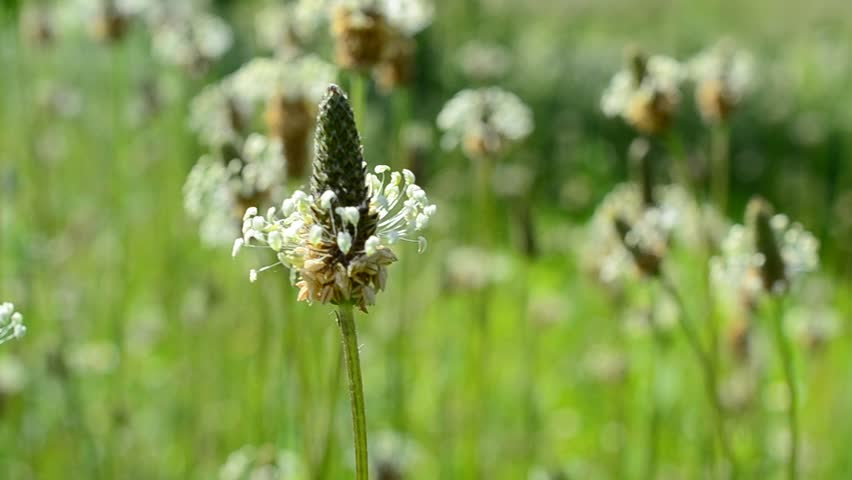buckhorn plantain: (234, 74, 426, 400)
